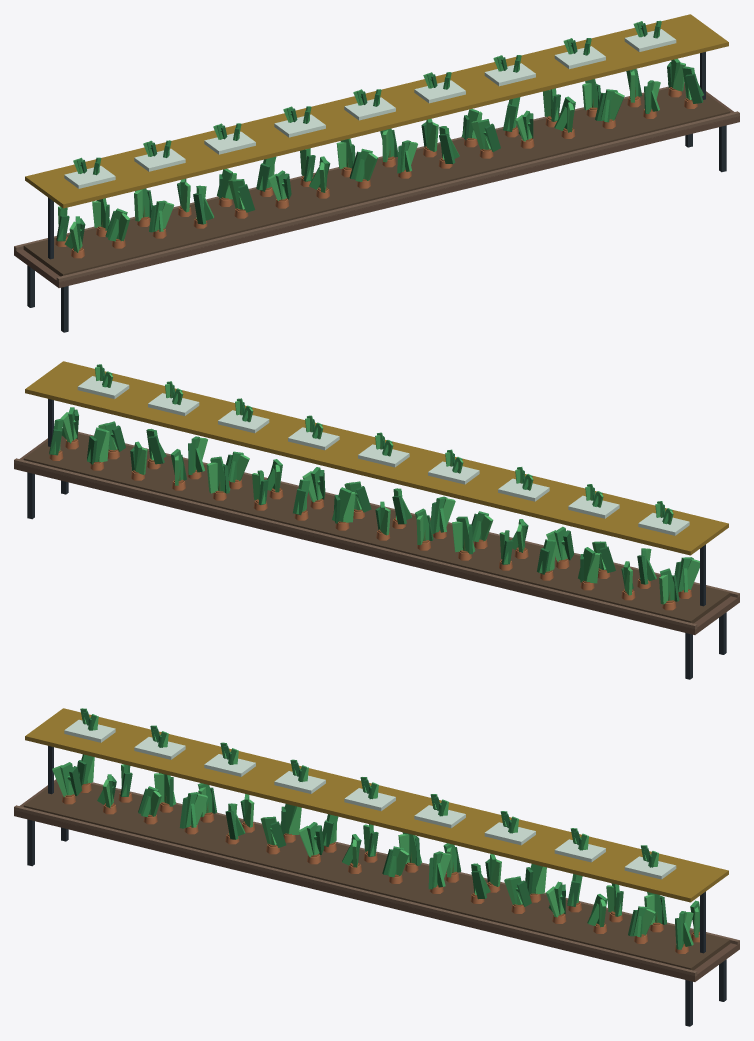
Rendered from bed-dendrobium.glb.
3 views of the same model, one above another, from view 1: azimuth 30°, elevation 25°; view 2: azimuth 150°, elevation 25°; view 3: azimuth 330°, elevation 25° (orthographic).
Visible parts, largest first — view 1: tier-l0, tier-l1, orchid-clump-a (×8); view 2: tier-l0, tier-l1, orchid-clump-b (×6), orchid-clump-a (×6); view 3: tier-l0, tier-l1, orchid-clump-a (×10), orchid-clump-b (×4).
Boxes of the visible parts, bbox=[...] form: tier-l0: bbox=[14, 83, 739, 332]; tier-l1: bbox=[25, 14, 728, 259]; orchid-clump-a (×8): bbox=[105, 66, 703, 241]; tier-l0: bbox=[14, 431, 739, 679]; tier-l1: bbox=[25, 361, 728, 606]; orchid-clump-b (×6): bbox=[87, 427, 679, 604]; orchid-clump-a (×6): bbox=[188, 436, 699, 592]; tier-l0: bbox=[14, 779, 739, 1026]; tier-l1: bbox=[25, 708, 728, 953]; orchid-clump-a (×10): bbox=[52, 762, 693, 949]; orchid-clump-b (×4): bbox=[154, 773, 546, 894].
Bounding box in the file's own units: 7 × 1.49 × 0.8.
